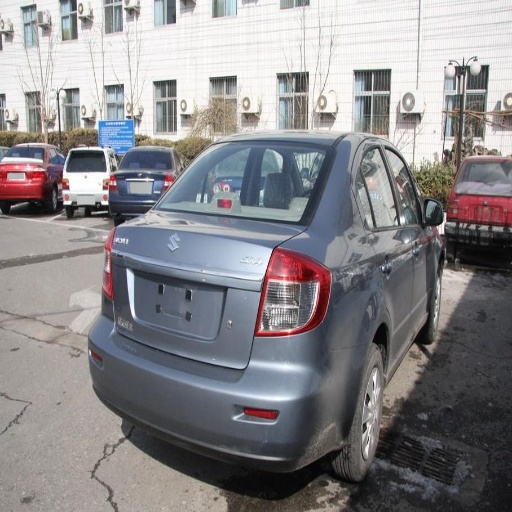back_bumper: (90, 313, 361, 475)
back_right_door: (354, 139, 409, 354)
